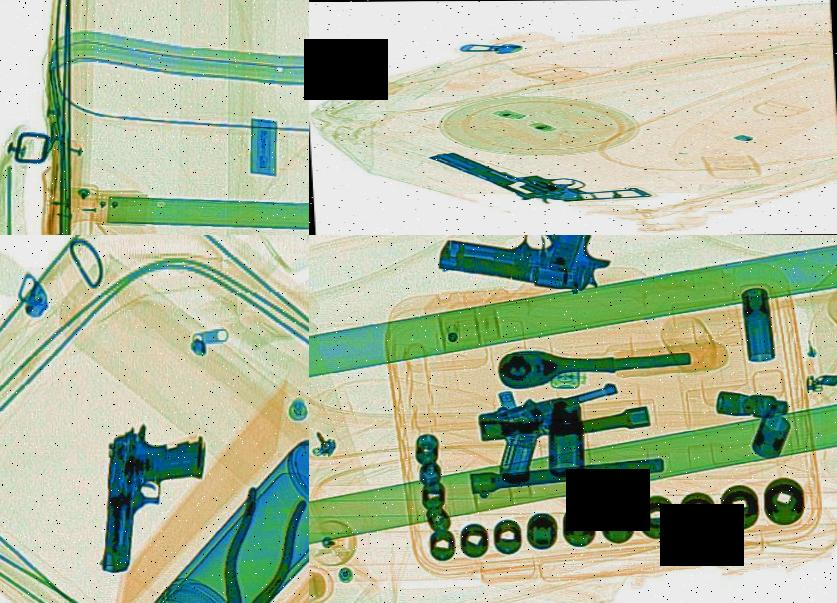Gun: (453, 374, 668, 485), (426, 127, 657, 223), (97, 418, 212, 578), (429, 235, 649, 296)
Pliers: (190, 483, 309, 603)
